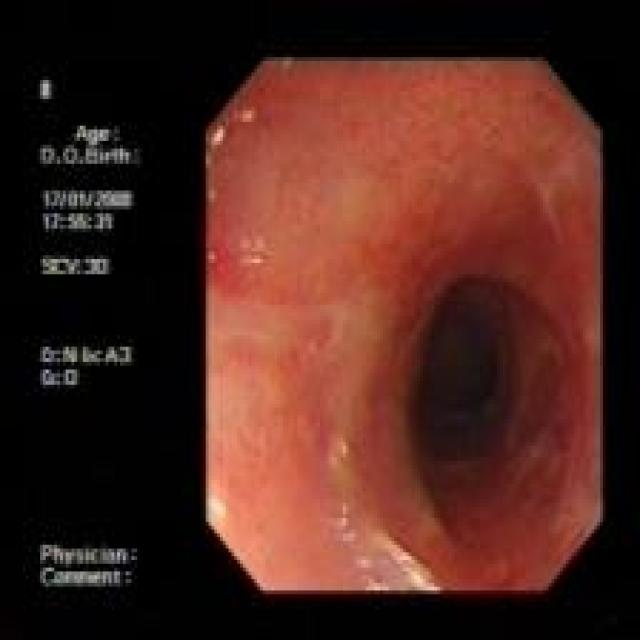color misalignment: (31, 70, 153, 600)
contrast: (414, 273, 558, 500)
